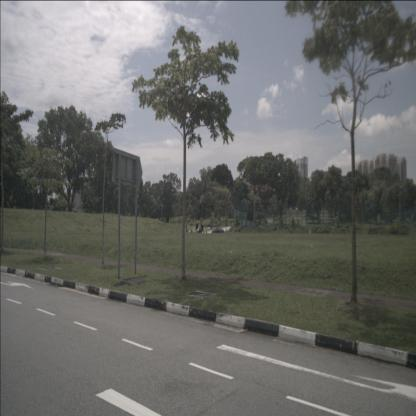vehicle-car: (212, 227, 224, 235)
